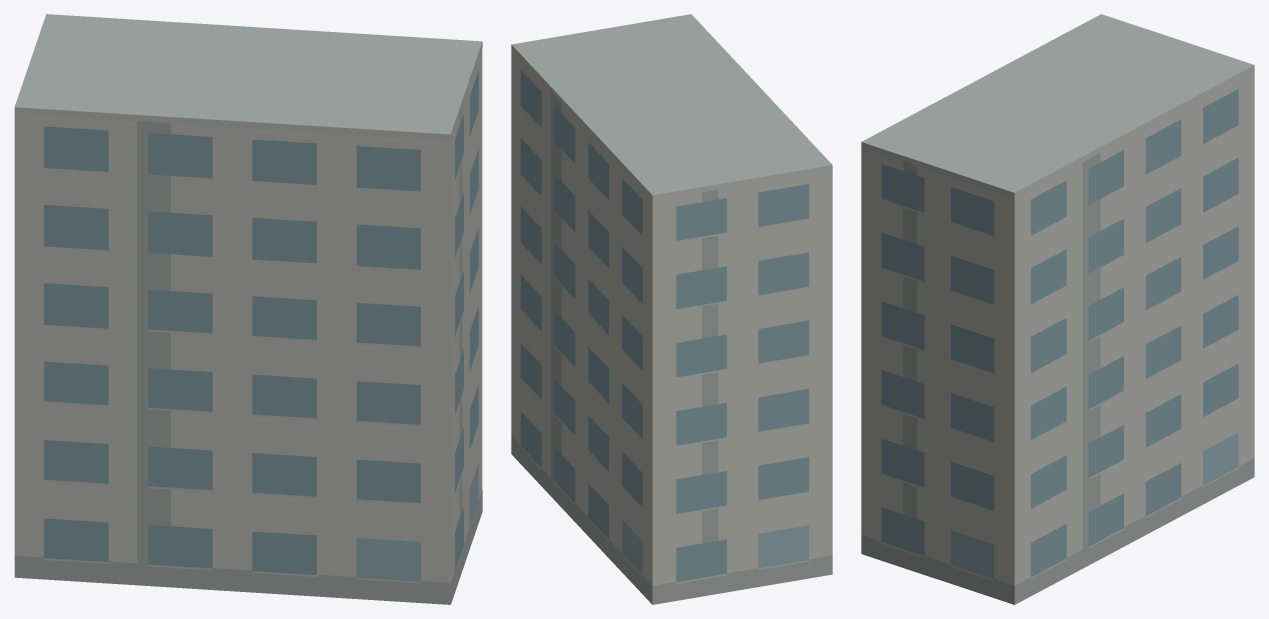
Rendered from survey-upis-32582360.glb.
3 views of the same model, side by side, from view 1: azimuth 30°, elevation 25°; view 2: azimuth 150°, elevation 25°; view 3: azimuth 270°, elevation 25° (orthographic). The views are drawn at different scales.
Parts seen in each view (by area): view 1: survey-upis-32582360.tmp; view 2: survey-upis-32582360.tmp; view 3: survey-upis-32582360.tmp.
Part boxes in pixels (<box>): survey-upis-32582360.tmp: <box>14,14,482,604</box>; survey-upis-32582360.tmp: <box>511,14,832,604</box>; survey-upis-32582360.tmp: <box>861,14,1254,604</box>.
Size of the model in its own units: 17.04 by 18.3 by 15.84.
